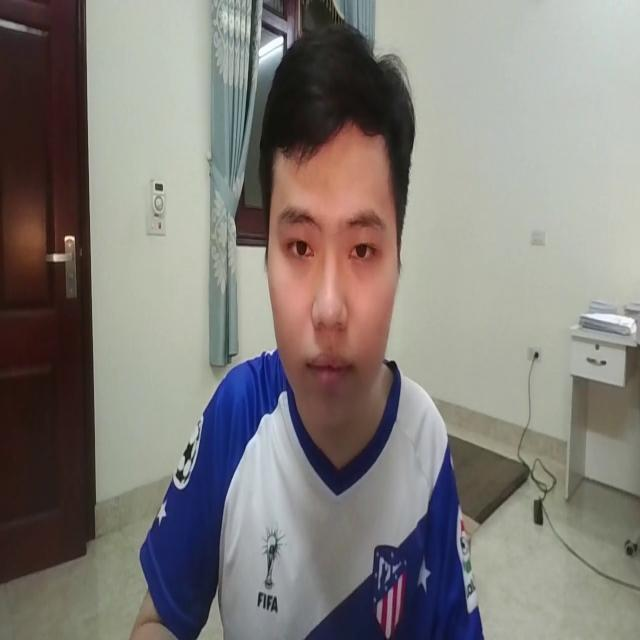student: (109, 18, 518, 640)
